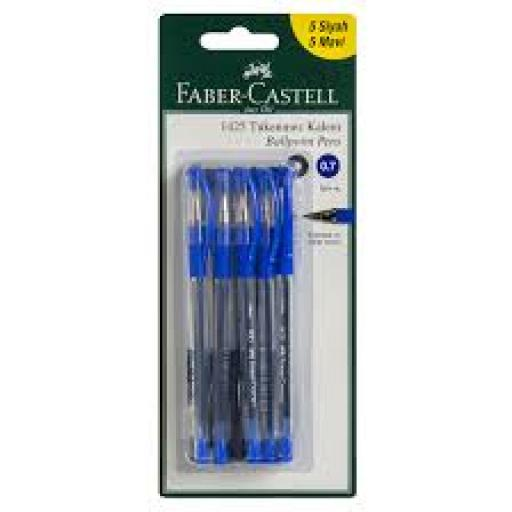tukenmez-kalem: (166, 130, 313, 486)
